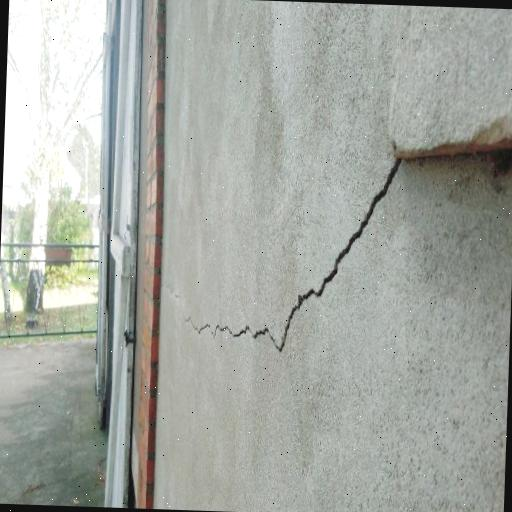spalling: (226, 158, 405, 358)
